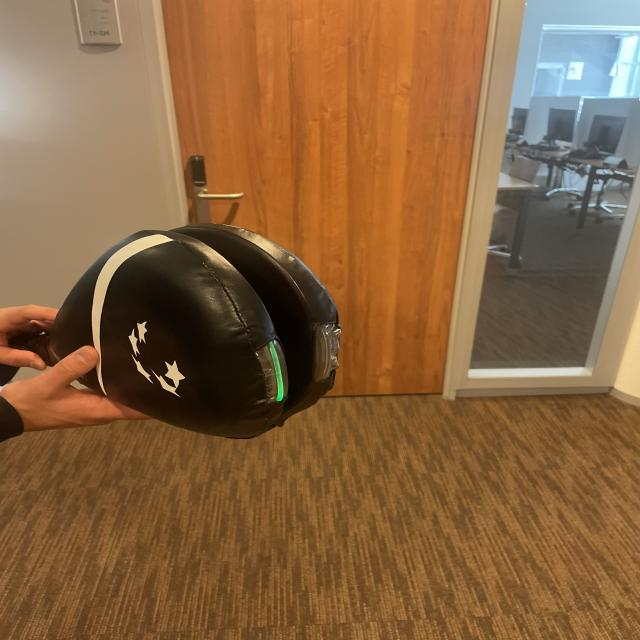paddle: (59, 222, 346, 431)
trigger: (266, 335, 288, 402)
